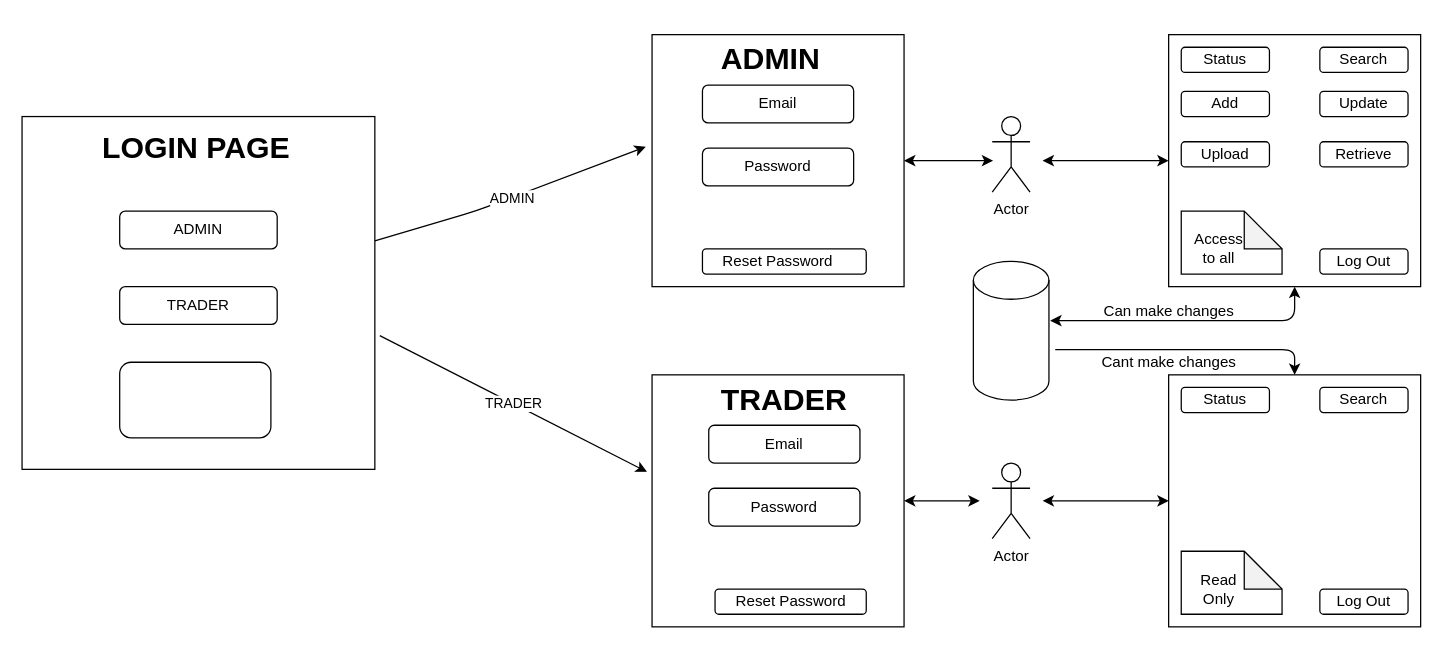
The diagram is 1443 pixels wide and 649 high, and some of its shapes have lost their labels. Here are the shapes that lost their labels. From the top down, the centre of each, then its label:
the point at 1010,330: Database
the point at 194,399: REGISTER AS NEW
